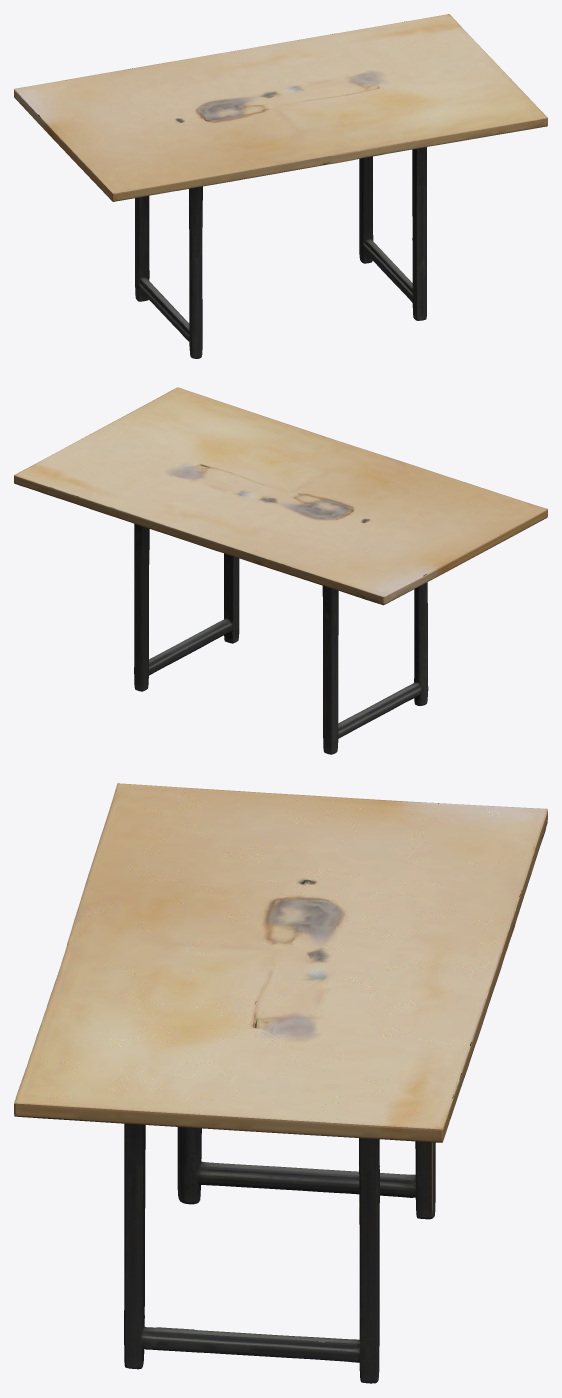
File: wooden_conference_table_000.glb
3 views of the same model, one above another, from view 1: azimuth 30°, elevation 25°; view 2: azimuth 150°, elevation 25°; view 3: azimuth 270°, elevation 25° (orthographic). The views are drawn at different scales.
Visible parts, largest first — view 1: phase2_final_wooden_conference_table_000.obj; view 2: phase2_final_wooden_conference_table_000.obj; view 3: phase2_final_wooden_conference_table_000.obj.
Part boxes in pixels (bbox=[...]): phase2_final_wooden_conference_table_000.obj: bbox=[14, 14, 547, 358]; phase2_final_wooden_conference_table_000.obj: bbox=[14, 387, 547, 754]; phase2_final_wooden_conference_table_000.obj: bbox=[14, 783, 547, 1383].
Bounding box in the file's own units: 1.06 × 0.4787 × 0.6902.
1 material, 1 textured.
